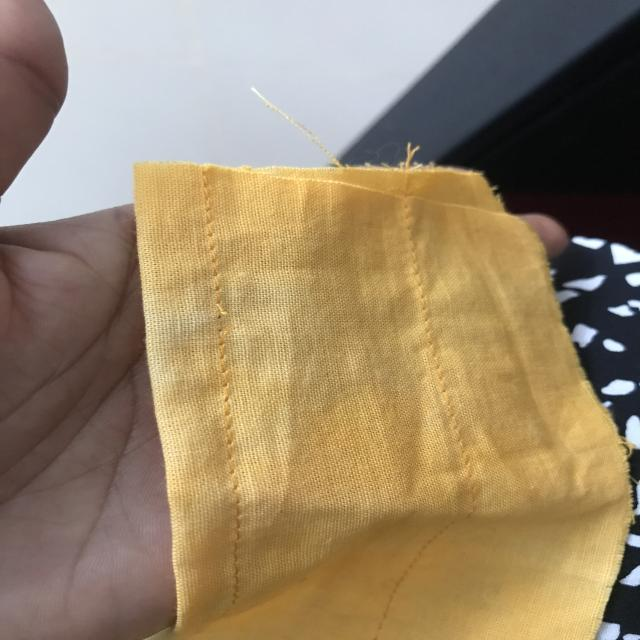broken: (210, 298, 253, 360)
